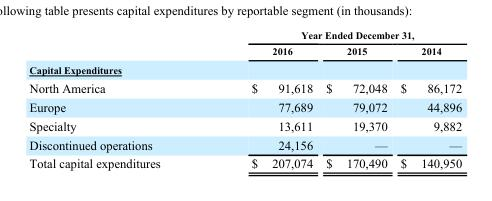table: (28, 28, 461, 170)
table column: (28, 28, 205, 170), (205, 28, 318, 170), (318, 28, 393, 170), (393, 28, 461, 170)
table column header: (28, 28, 461, 60)
table projected row header: (28, 60, 461, 77)
table row: (28, 77, 461, 96), (28, 96, 461, 115), (28, 115, 461, 134), (28, 134, 461, 153), (28, 42, 461, 60), (28, 60, 461, 77), (28, 153, 461, 170), (28, 28, 461, 42)
table spanning cell: (205, 28, 461, 42)
